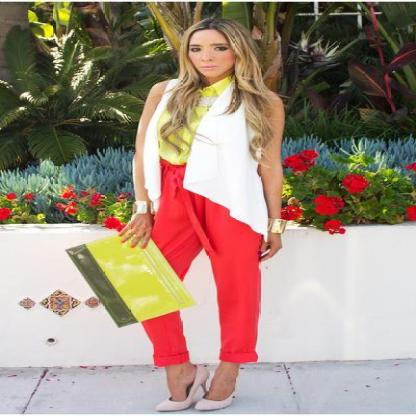bag: (88, 229, 194, 322)
jacket: (135, 75, 280, 240)
pants: (141, 158, 261, 366)
shirt: (162, 77, 233, 165)
shoe: (187, 391, 225, 415)
